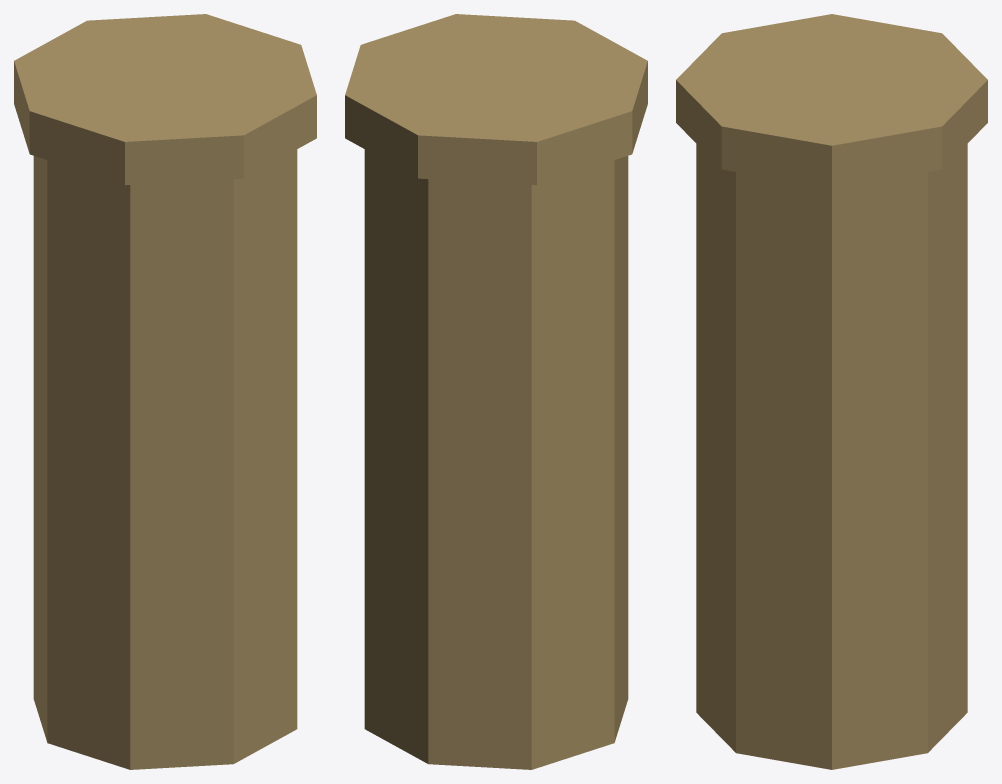
File: terrain-sand-pillar.lod0.glb
The picture shows the model from 3 angles, left to right: view 1: azimuth 30°, elevation 25°; view 2: azimuth 150°, elevation 25°; view 3: azimuth 270°, elevation 25°; orthographic projection.
Visible parts, largest first — view 1: terrain-sand-pillar__body; view 2: terrain-sand-pillar__body; view 3: terrain-sand-pillar__body.
Part boxes in pixels (left/top/right/bottom): terrain-sand-pillar__body: left=14, top=14, right=316, bottom=769; terrain-sand-pillar__body: left=345, top=14, right=647, bottom=769; terrain-sand-pillar__body: left=676, top=14, right=987, bottom=769.
Bounding box in the file's own units: 0.92 × 2.06 × 0.92.
